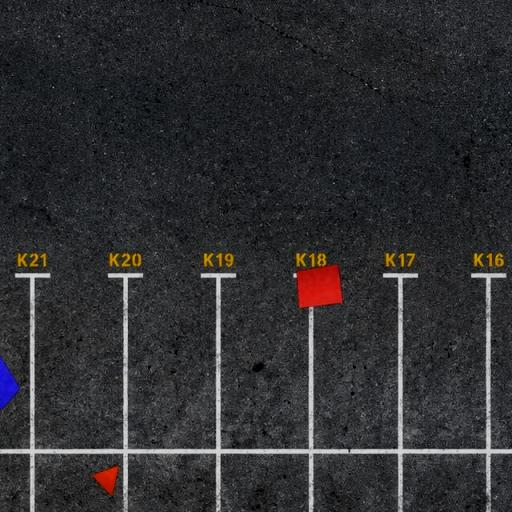RED_SQUARE: (295, 264, 344, 310)
